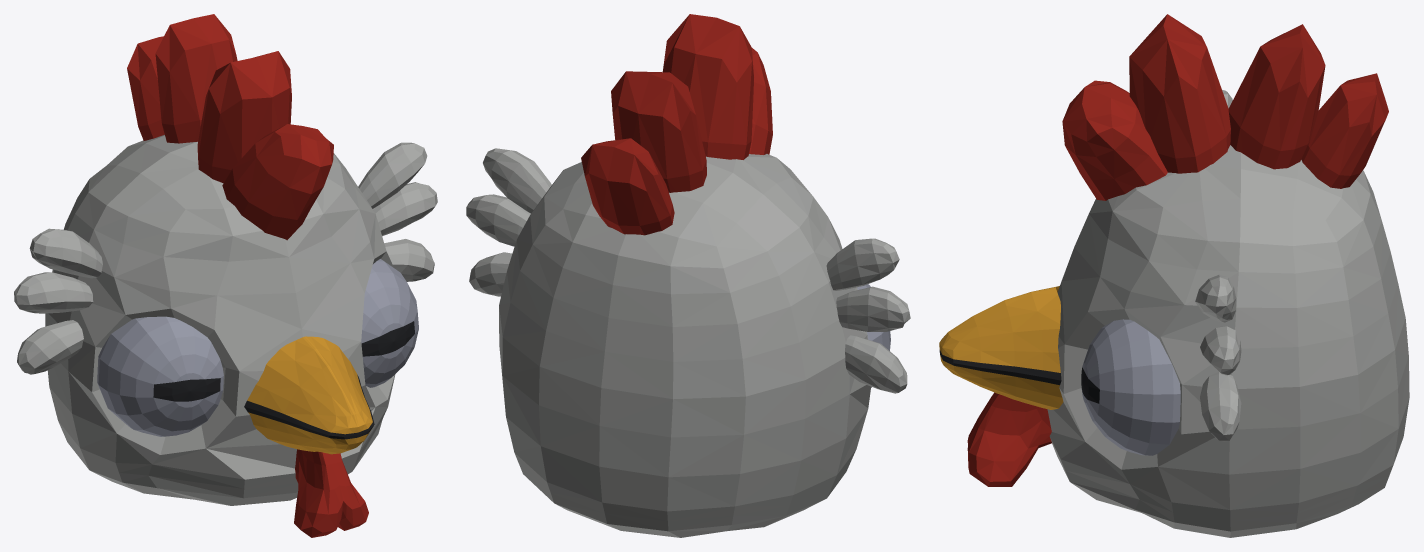
Rendered from rooster.glb.
3 views of the same model, side by side, from view 1: azimuth 30°, elevation 25°; view 2: azimuth 150°, elevation 25°; view 3: azimuth 270°, elevation 25° (orthographic). The views are drawn at different scales.
Parts seen in each view (by area): view 1: SK_Chicken.usda; view 2: SK_Chicken.usda; view 3: SK_Chicken.usda.
Boxes of the visible parts, x1,y1,x2,y2 form: SK_Chicken.usda: (14, 14, 437, 537); SK_Chicken.usda: (466, 14, 910, 537); SK_Chicken.usda: (939, 14, 1409, 537).
Bounding box in the file's own units: 2.35 × 2.35 × 2.1.
Materials: 1 (1 with a texture image).
